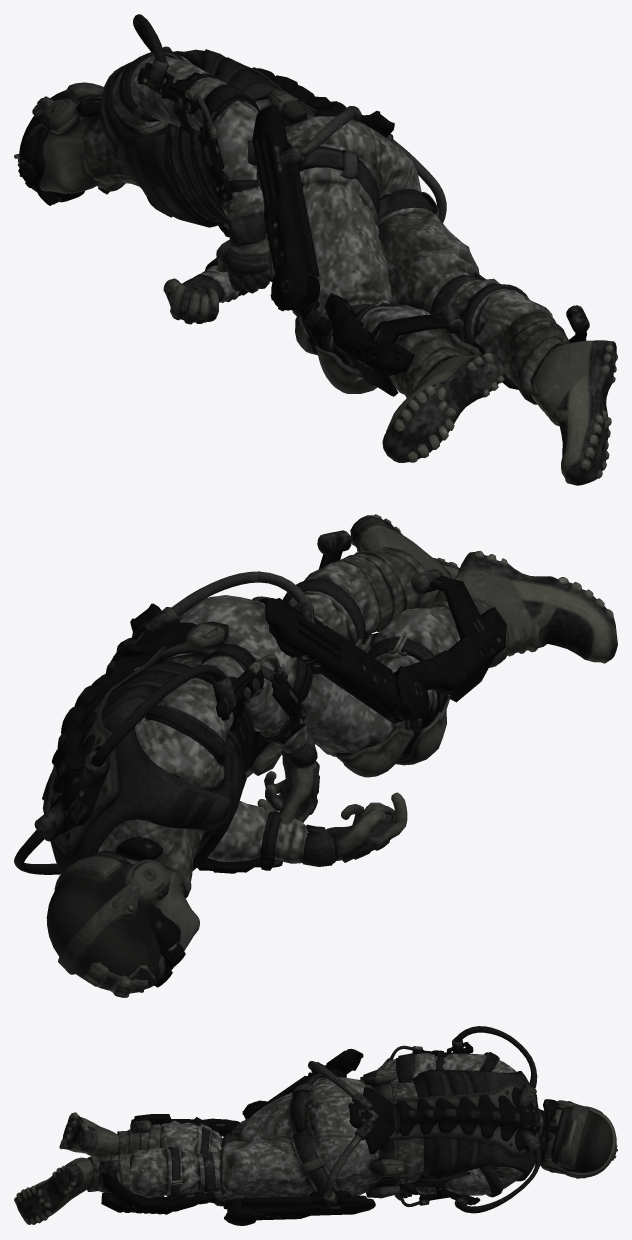
File: SWAT.glb
3 renders of one model, top to bottom at view 1: azimuth 30°, elevation 25°; view 2: azimuth 150°, elevation 25°; view 3: azimuth 270°, elevation 25°, orthographic. The views are drawn at different scales.
Visible parts, largest first — view 1: Ch15_1, Death_Armor; view 2: Ch15_1, Death_Armor; view 3: Ch15_1, Death_Armor.
Part boxes in pixels (x1,y1,x2,y2): Ch15_1: (14,14,617,485); Death_Armor: (19,56,569,404); Ch15_1: (14,514,617,997); Death_Armor: (45,547,509,990); Ch15_1: (14,1026,617,1225); Death_Armor: (87,1053,612,1206).
Bounding box in the file's own units: 0.4373 × 0.3753 × 1.27.
2 materials, 2 textured.
